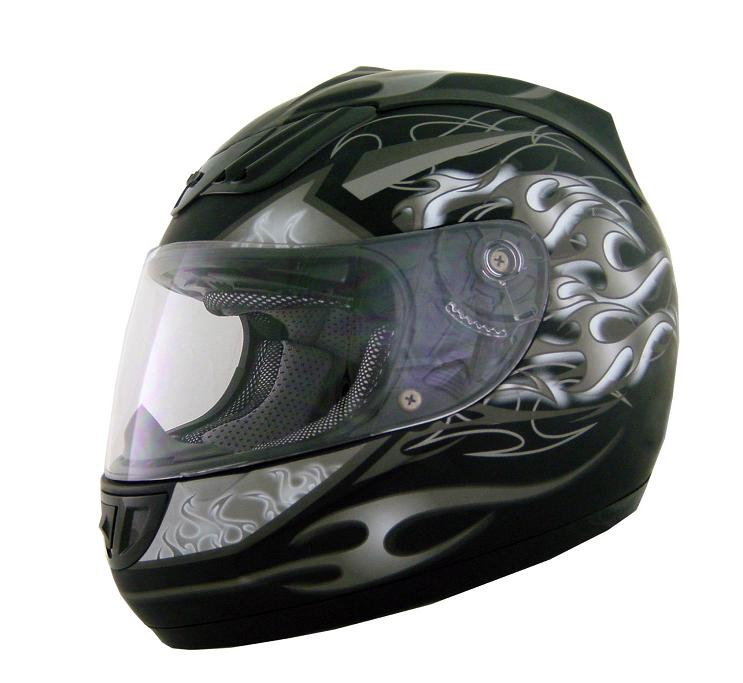helmet: (126, 79, 675, 585)
